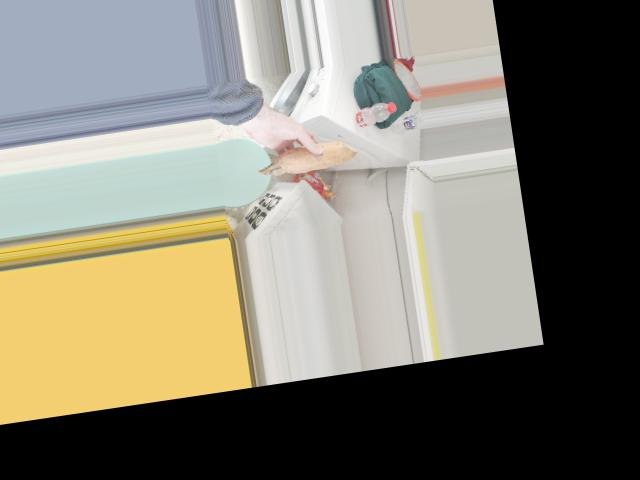sweet_potato: (256, 132, 346, 178)
